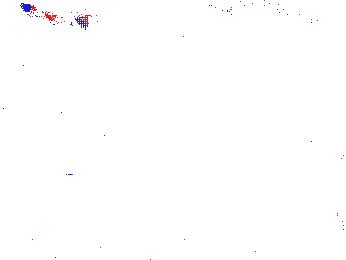X-ray fish: (3, 29, 41, 79)
glassfish: (215, 1, 336, 47)
redtail glassfish: (18, 1, 91, 33)
